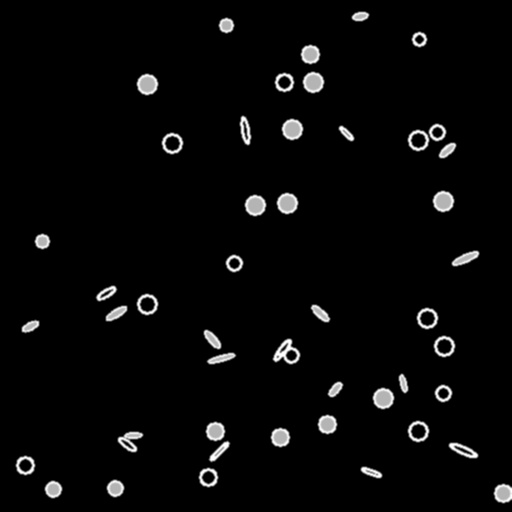pseudomonas: (449, 441, 477, 459), (272, 338, 292, 362), (451, 250, 479, 266), (104, 304, 128, 322), (209, 441, 229, 461), (275, 337, 293, 357), (203, 329, 221, 349), (117, 435, 137, 453), (207, 352, 235, 364), (239, 116, 251, 144), (311, 304, 329, 322), (438, 141, 456, 159), (96, 285, 116, 301), (360, 466, 382, 478), (21, 319, 39, 333), (328, 381, 342, 397), (339, 126, 353, 140), (399, 374, 407, 392), (352, 12, 368, 20), (125, 432, 141, 438)
synechocystis: (409, 422, 427, 440), (418, 309, 436, 327), (374, 389, 392, 407), (304, 73, 322, 91), (138, 75, 156, 93), (246, 196, 264, 214), (283, 120, 301, 138), (163, 134, 181, 152), (434, 192, 452, 210), (138, 295, 156, 313), (409, 131, 427, 149), (278, 194, 296, 212), (435, 337, 453, 355), (319, 416, 335, 432), (17, 457, 33, 473), (495, 485, 511, 501), (207, 423, 223, 439), (276, 74, 292, 90), (302, 46, 318, 62), (272, 429, 288, 445), (200, 469, 216, 485), (108, 481, 122, 495), (46, 482, 60, 496), (227, 256, 241, 270), (284, 348, 298, 362), (436, 386, 450, 400), (430, 125, 444, 139), (36, 235, 48, 247), (220, 19, 232, 31), (413, 33, 425, 45)
